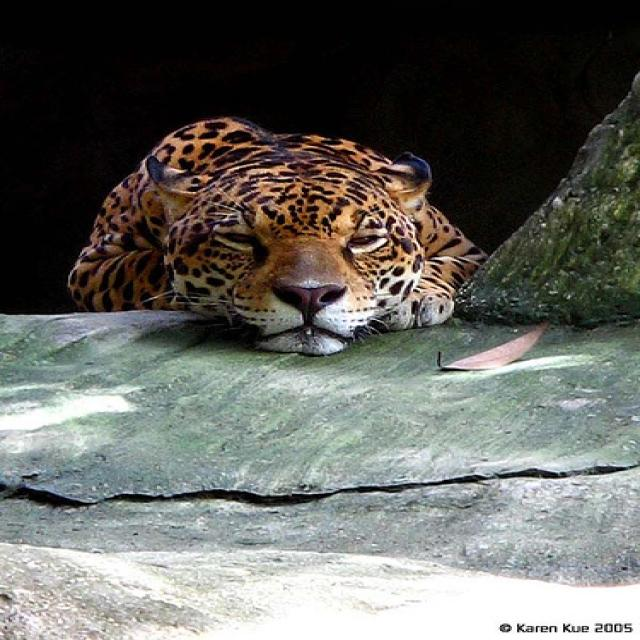Leopard: (67, 116, 484, 358)
